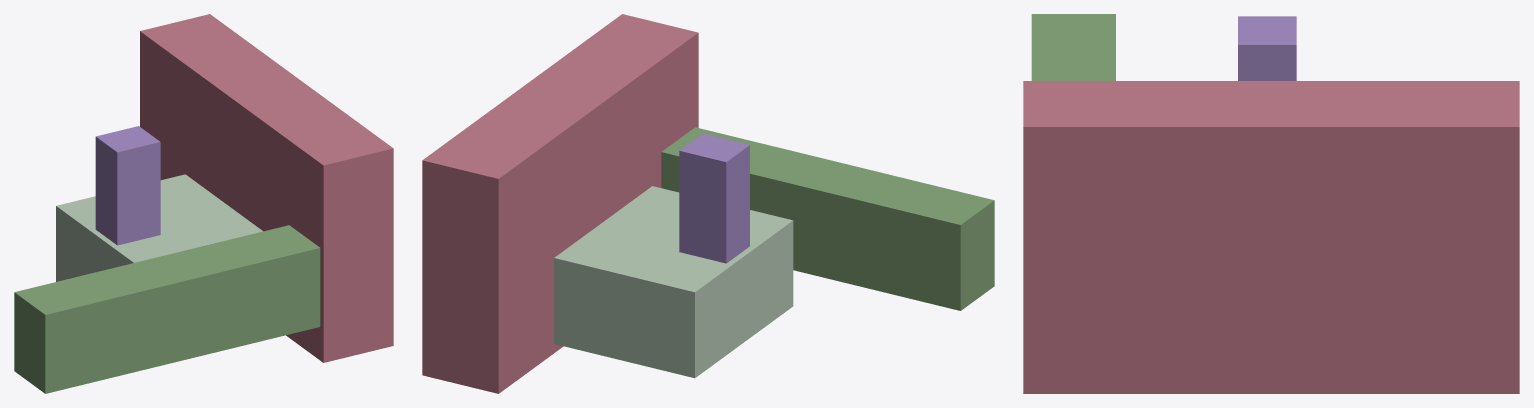
The model's file is 199508_pred.glb.
The picture shows the model from 3 angles, left to right: view 1: azimuth 30°, elevation 25°; view 2: azimuth 150°, elevation 25°; view 3: azimuth 270°, elevation 25°; orthographic projection. The views are drawn at different scales.
Visible parts, largest first — view 1: world; view 2: world; view 3: world.
Boxes of the visible parts, left/top/right/bottom form: world: left=14, top=14, right=393, bottom=393; world: left=422, top=14, right=994, bottom=393; world: left=1023, top=14, right=1519, bottom=393.
Bounding box in the file's own units: 6.4 × 3.5 × 5.9.
